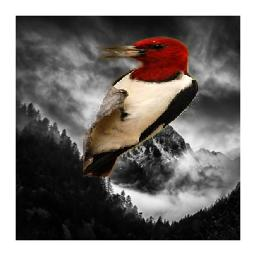Woodpecker: (83, 37, 199, 178)
